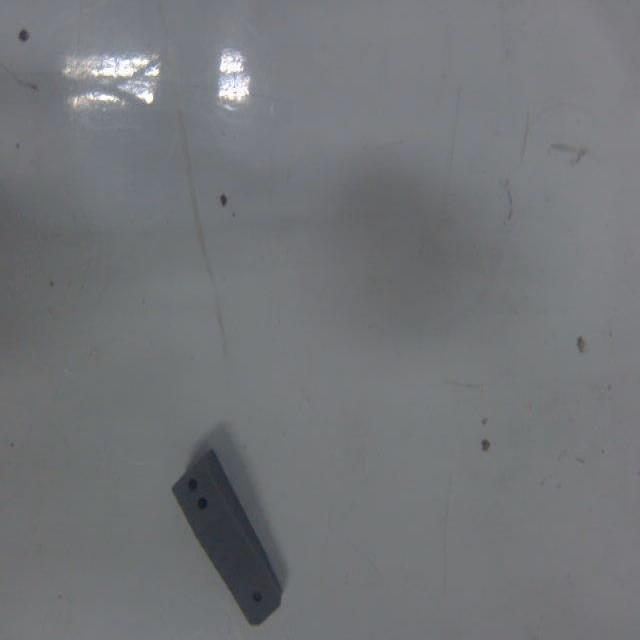grey: (175, 460, 284, 630)
head: (249, 586, 266, 604)
